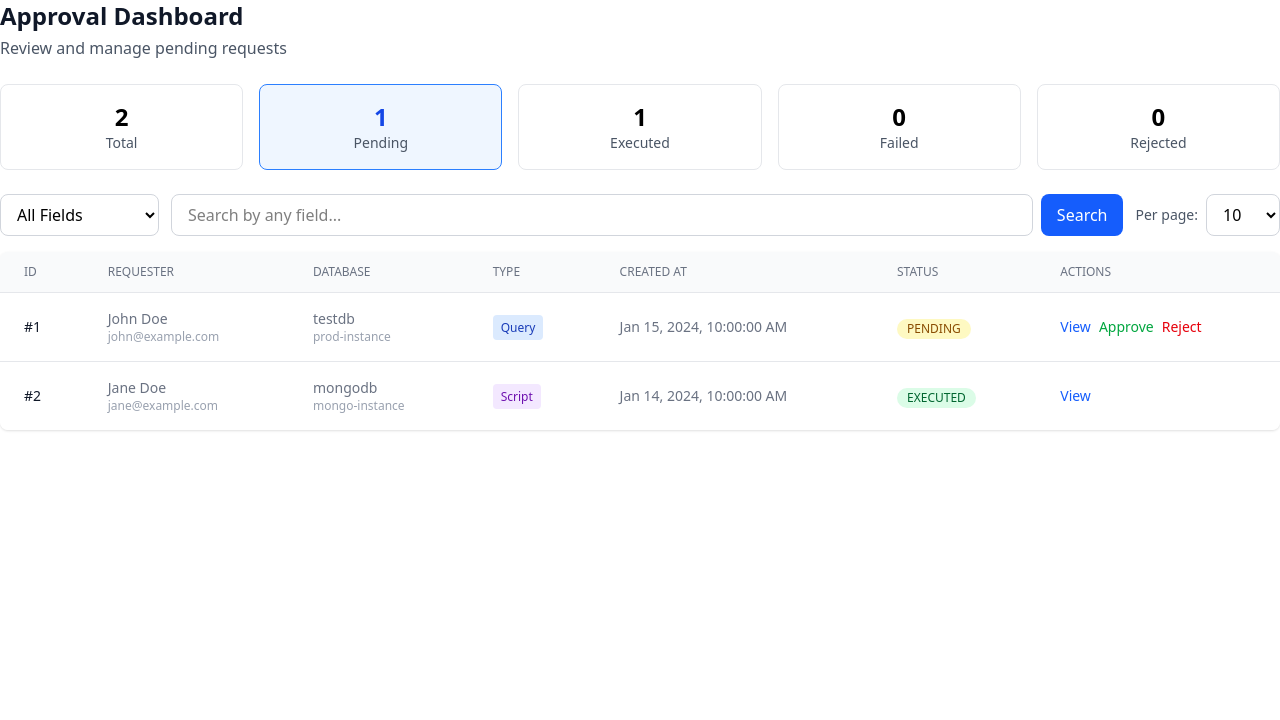
Test case: ApprovalDashboard › should handle approve error
Expected: the text "#1" is shown, [0,292,84,362]
Click the button "Approve".
click(1126, 327)  # box [1099,317,1154,337]
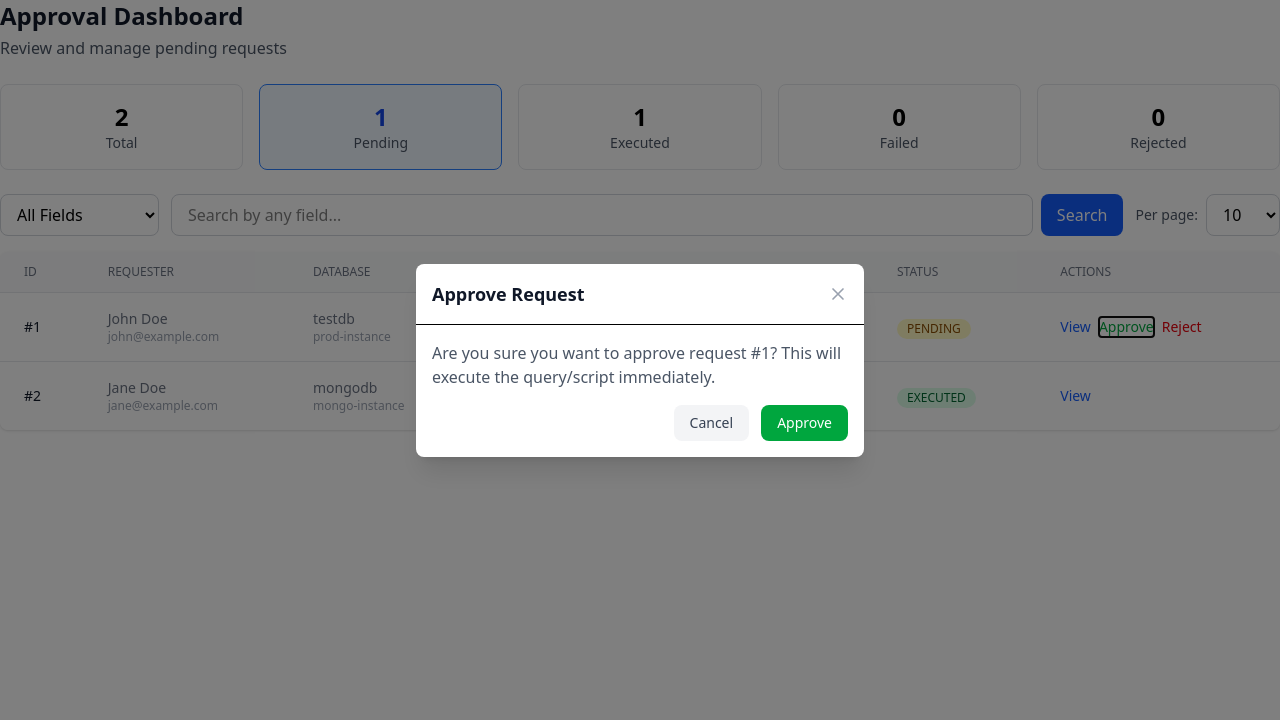
Expected: the text "Are you sure you want to approve" is shown, [432,342,841,388]
Click the button "Approve".
click(805, 422)  # box [761,404,848,440]
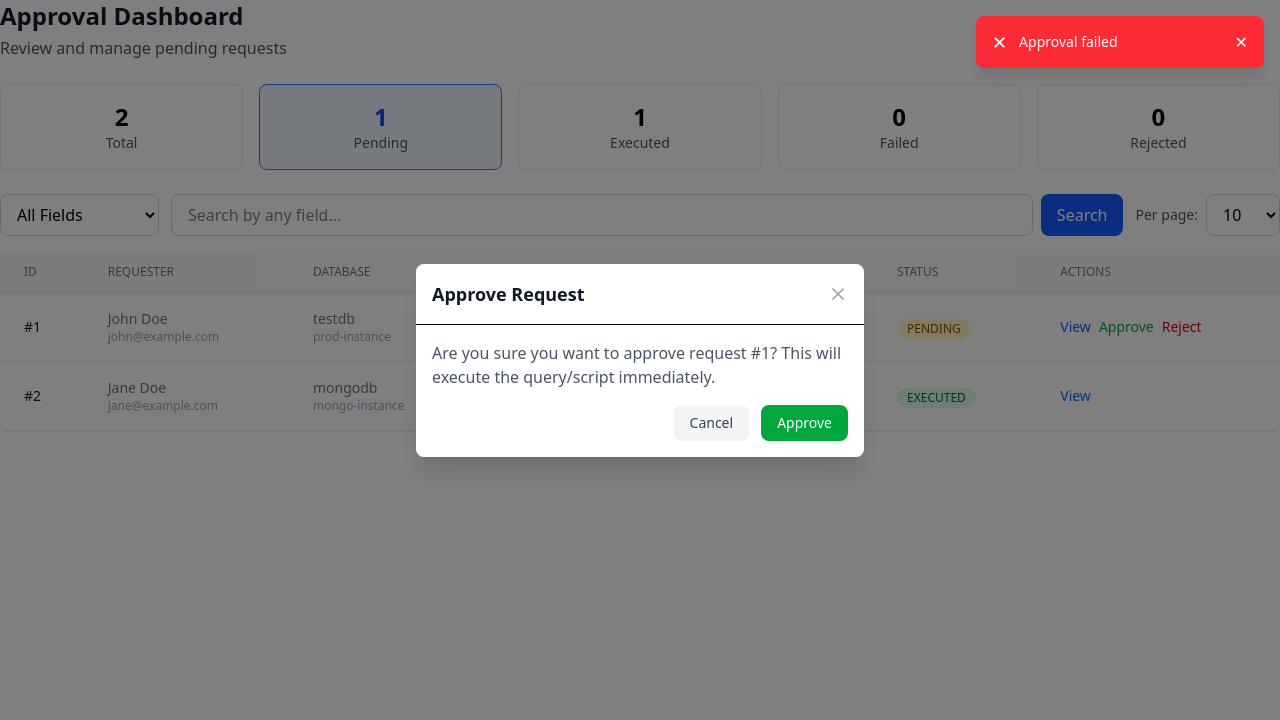
Expected: the text "Approval failed" is shown, [1019,32,1118,51]
